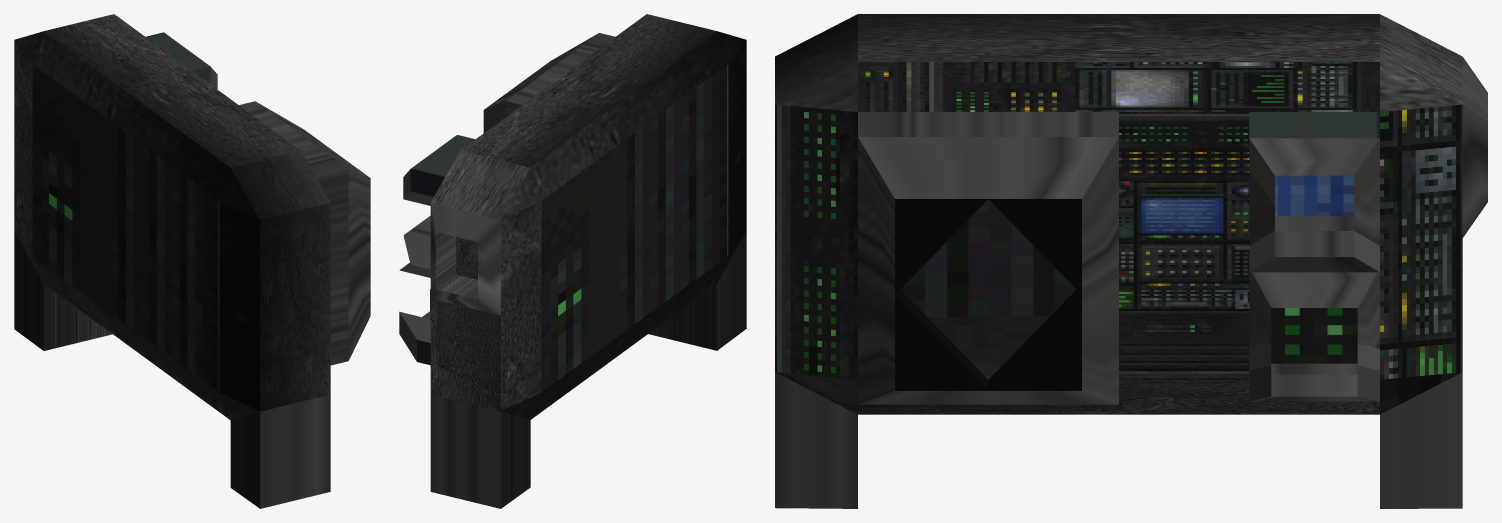
Rendered from Machine.obj.
3 views of the same model, side by side, from view 1: azimuth 30°, elevation 25°; view 2: azimuth 150°, elevation 25°; view 3: azimuth 270°, elevation 25° (orthographic). The views are drawn at different scales.
Visible parts, largest first — view 1: Cube; view 2: Cube; view 3: Cube.
Boxes of the visible parts, bbox=[...] form: Cube: bbox=[14, 14, 370, 508]; Cube: bbox=[399, 14, 746, 508]; Cube: bbox=[775, 14, 1487, 508].
Size of the model in its own units: 3.55 by 6.59 by 9.53.
Materials: 2 (2 with a texture image).
